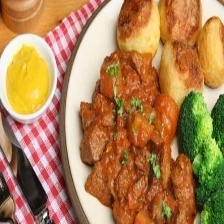sabzi: (78, 47, 197, 224)
